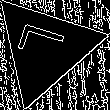L_E: (15, 26, 74, 71)
